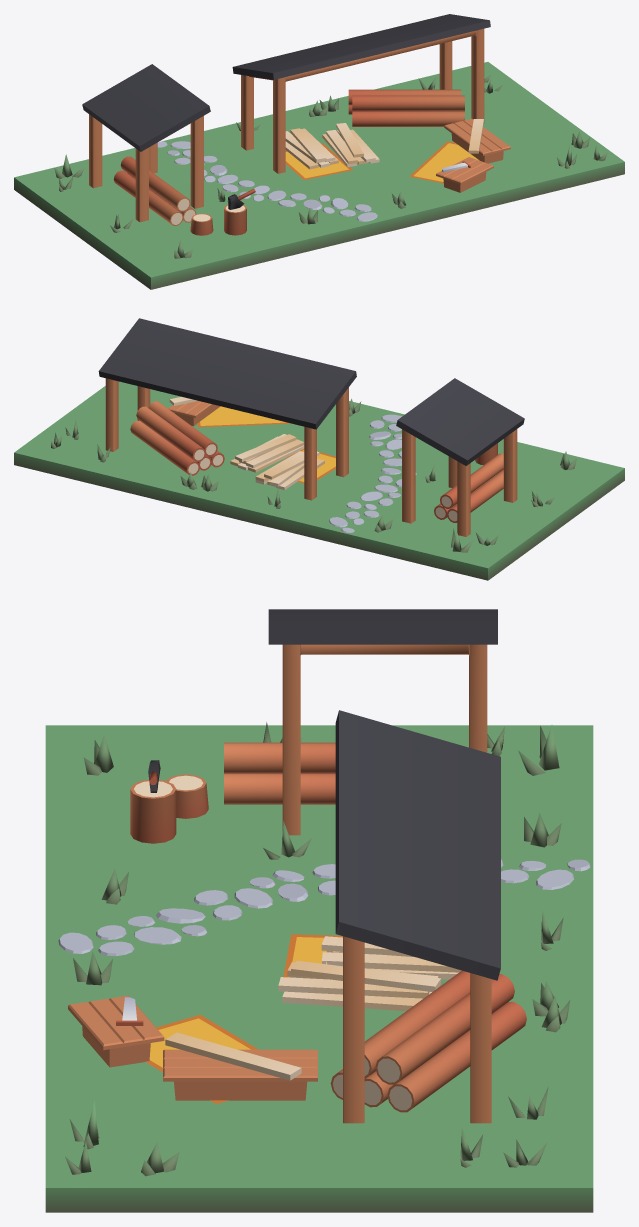
File: lumber_yard.glb
3 renders of one model, top to bottom at view 1: azimuth 30°, elevation 25°; view 2: azimuth 150°, elevation 25°; view 3: azimuth 270°, elevation 25°, orthographic. The views are drawn at different scales.
Parts seen in each view (by area): view 1: lumber_yard; view 2: lumber_yard; view 3: lumber_yard.
Part boxes in pixels (x1,y1,x2,y2): lumber_yard: (14,14,624,289); lumber_yard: (14,318,624,580); lumber_yard: (45,609,593,1212).
Size of the model in its own units: 2 by 0.4671 by 1.
1 material, 1 textured.
